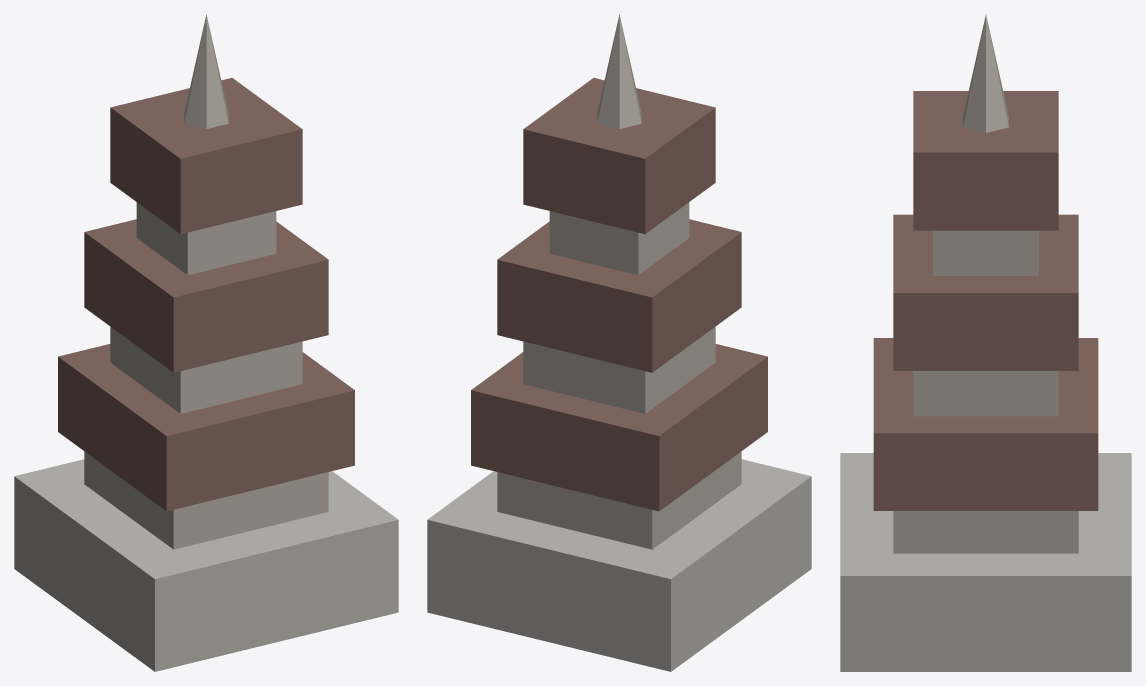
3 renders of one model, left to right at view 1: azimuth 30°, elevation 25°; view 2: azimuth 150°, elevation 25°; view 3: azimuth 270°, elevation 25°, orthographic. The views are drawn at different scales.
Visible parts, largest first — view 1: part0, part2, part4, part6, part1, part3, part5, part7; view 2: part0, part2, part4, part6, part1, part3, part5, part7; view 3: part0, part2, part4, part6, part1, part3, part5, part7.
Part boxes in pixels (left/top/right/bottom): part0: left=14, top=459, right=398, bottom=671; part2: left=58, top=344, right=354, bottom=511; part4: left=84, top=219, right=328, bottom=372; part6: left=110, top=78, right=302, bottom=233; part1: left=84, top=451, right=328, bottom=549; part3: left=110, top=327, right=302, bottom=413; part5: left=136, top=202, right=276, bottom=275; part7: left=184, top=14, right=228, bottom=128; part0: left=427, top=459, right=811, bottom=671; part2: left=471, top=344, right=767, bottom=511; part4: left=497, top=219, right=741, bottom=372; part6: left=523, top=78, right=715, bottom=233; part1: left=497, top=451, right=741, bottom=549; part3: left=523, top=327, right=715, bottom=413; part5: left=549, top=202, right=689, bottom=275; part7: left=597, top=14, right=641, bottom=128; part0: left=840, top=453, right=1131, bottom=671; part2: left=873, top=338, right=1098, bottom=510; part4: left=893, top=214, right=1078, bottom=370; part6: left=913, top=91, right=1058, bottom=230; part1: left=893, top=511, right=1078, bottom=553; part3: left=913, top=371, right=1058, bottom=416; part5: left=933, top=230, right=1038, bottom=275; part7: left=963, top=15, right=1008, bottom=132.
Size of the model in its own units: 2.2 by 4.97 by 2.2.
